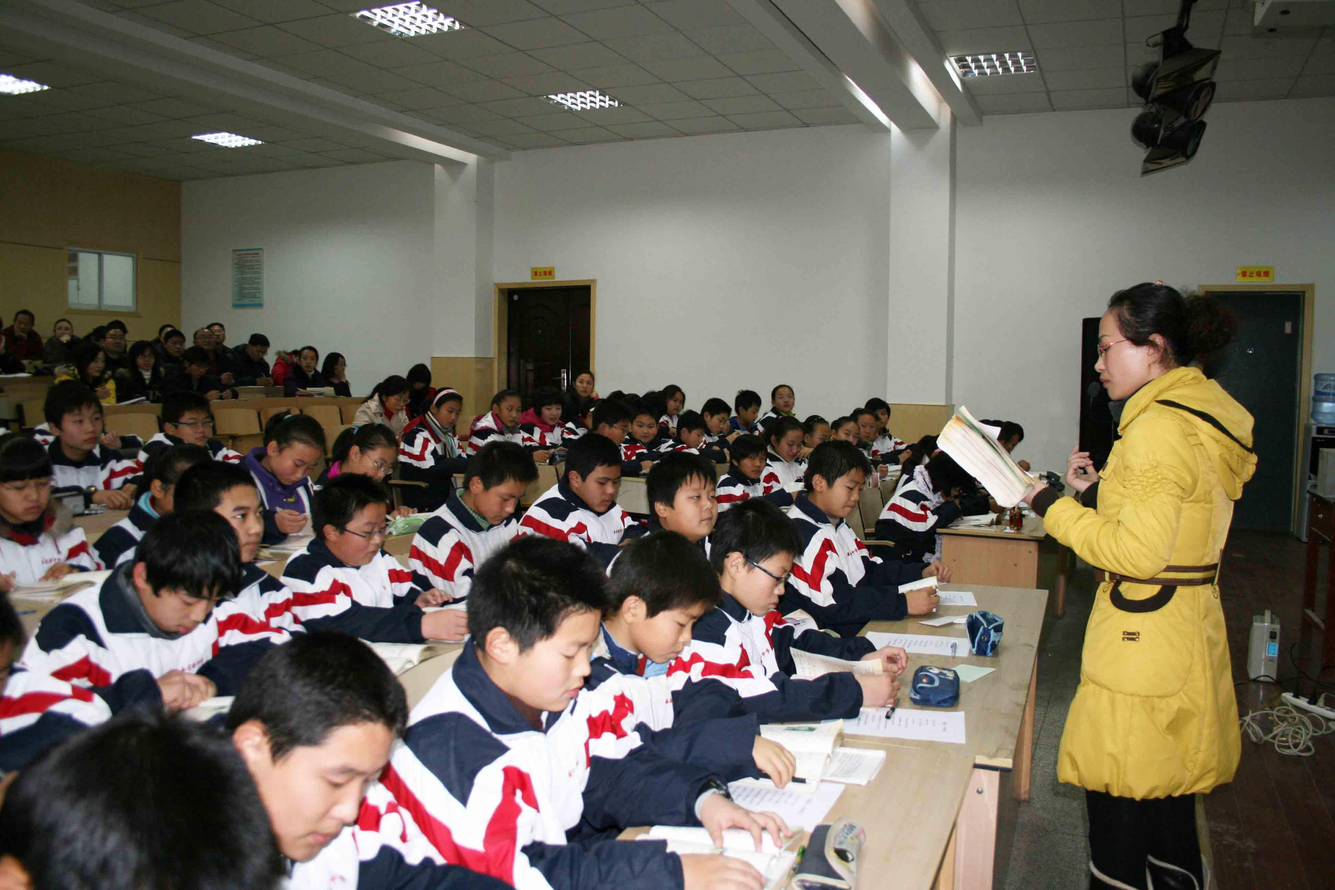nohelmet: (13, 730, 273, 890), (221, 645, 406, 865), (467, 535, 598, 718), (610, 537, 711, 661), (1091, 280, 1195, 391), (138, 525, 241, 634), (714, 500, 796, 609), (184, 466, 265, 562), (310, 480, 389, 561), (650, 458, 720, 542), (461, 446, 532, 526), (3, 430, 54, 524), (803, 442, 867, 515), (563, 440, 622, 518), (261, 418, 327, 487), (45, 384, 109, 451), (140, 446, 200, 510), (156, 392, 216, 447), (343, 427, 397, 482), (727, 433, 768, 486), (592, 396, 629, 451), (924, 453, 965, 502), (771, 419, 805, 462), (376, 376, 409, 416), (73, 338, 104, 379), (493, 385, 522, 427), (530, 388, 562, 425), (434, 391, 463, 430), (732, 387, 762, 424), (831, 414, 862, 449), (675, 413, 705, 449), (804, 415, 833, 452), (702, 397, 731, 433), (862, 395, 894, 425), (406, 362, 433, 397), (771, 379, 797, 412), (850, 406, 876, 438), (998, 417, 1021, 453), (243, 330, 270, 360), (132, 341, 158, 372), (184, 348, 210, 379), (633, 413, 656, 445), (659, 386, 684, 415), (295, 342, 320, 371), (327, 353, 350, 380), (574, 370, 596, 395), (12, 312, 35, 334), (104, 327, 125, 350), (162, 329, 183, 352), (53, 319, 72, 343), (195, 328, 214, 351), (208, 321, 228, 342), (283, 347, 304, 364)
